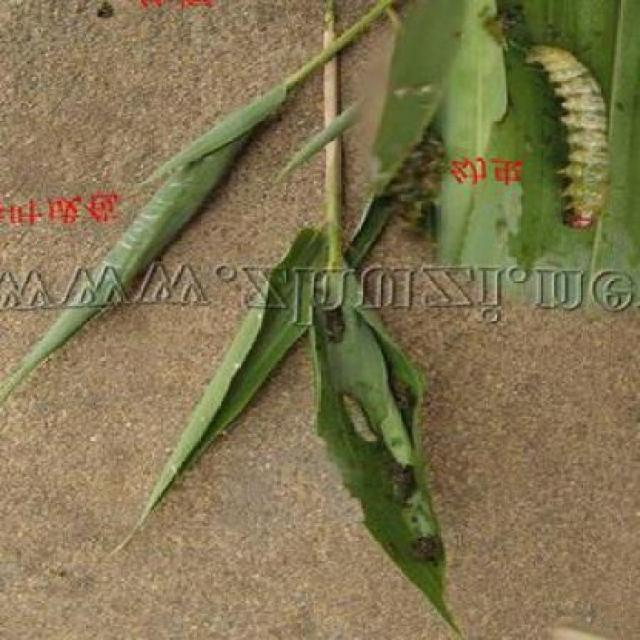leaf-folder: (505, 34, 624, 248), (296, 372, 396, 454)
